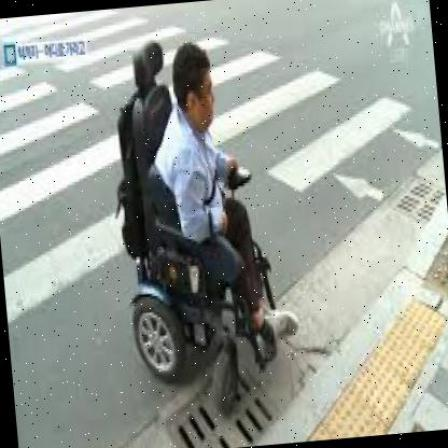wheel: (103, 30, 305, 417)
